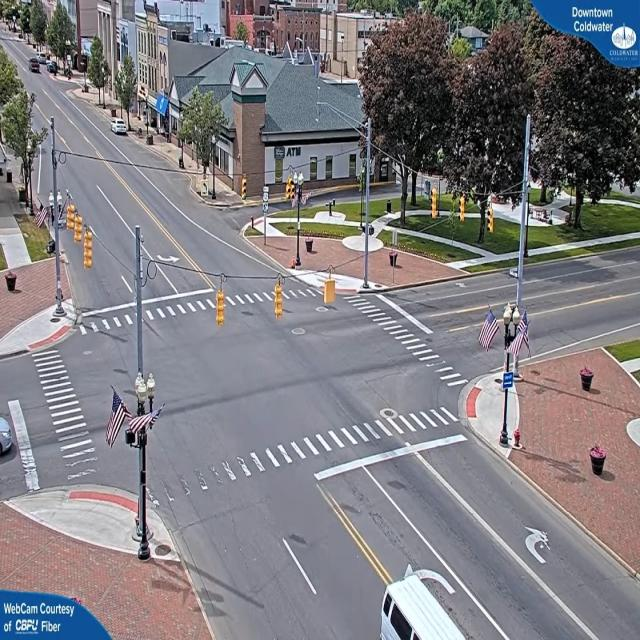car: (112, 121, 130, 138), (28, 59, 40, 73)
